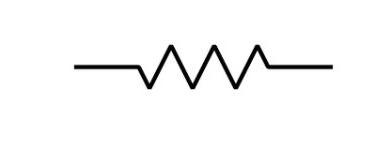resistor: (127, 35, 284, 103)
